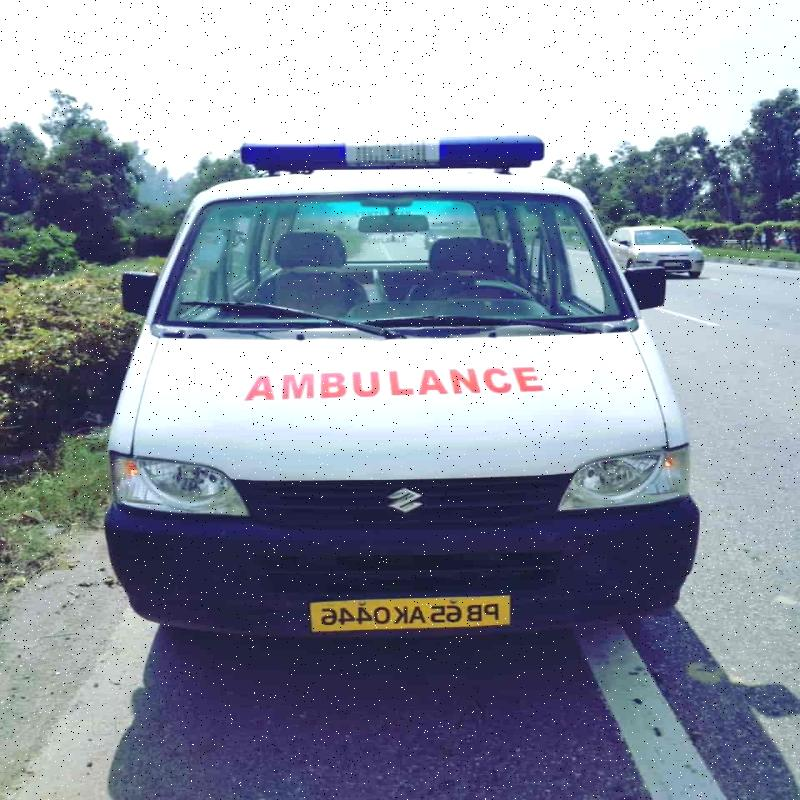ambulance: (94, 128, 732, 673)
